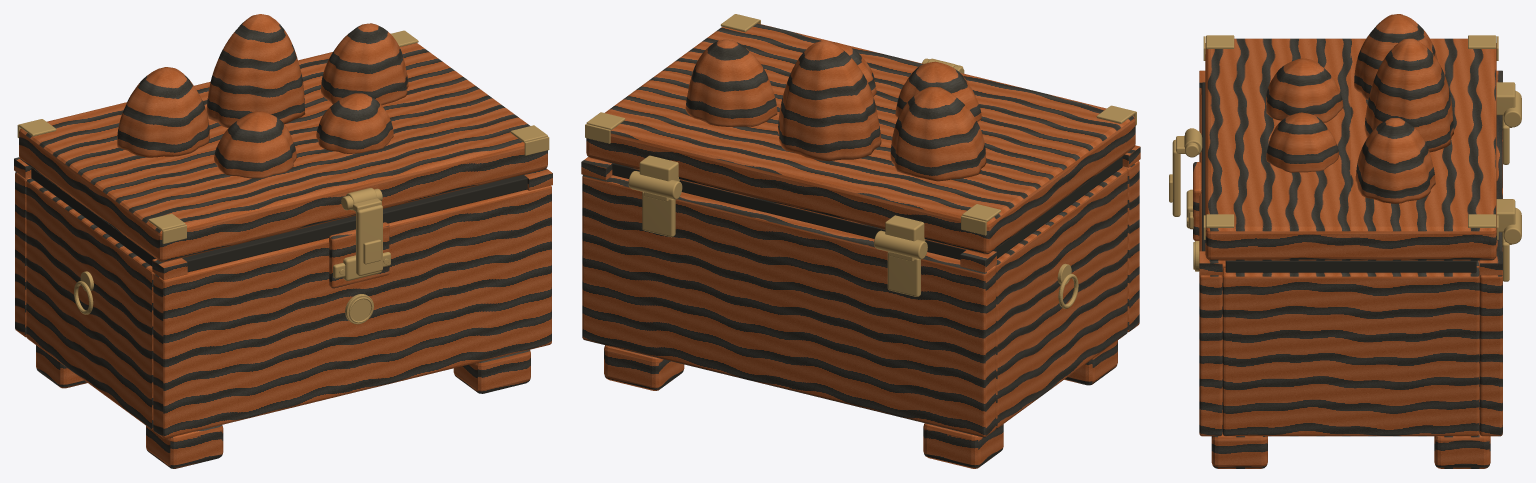
The model's file is australia.glb.
3 views of the same model, side by side, from view 1: azimuth 30°, elevation 25°; view 2: azimuth 150°, elevation 25°; view 3: azimuth 270°, elevation 25° (orthographic). The views are drawn at different scales.
Parts seen in each view (by area): view 1: Sandstone / front, Lid / polished slab, Sandstone / side, Dome / 2, Dome / 1, Dome / 3, Mineral seam / long, Dome / 4, Dome / 5, Sandstone foot, Sandstone foot.002, Sandstone / rear (+6 smaller); view 2: Sandstone / rear, Lid / polished slab, Sandstone / side, Dome / 2, Dome / 1, Dome / 3, Mineral seam / long.001, Sandstone foot.001, Sandstone foot.003, Sandstone / front, Dome / 4, Mineral seam / side (+8 smaller); view 3: Lid / polished slab, Sandstone / side.001, Dome / 2, Dome / 3, Sandstone / rear, Sandstone / front, Dome / 4, Dome / 5, Mineral seam / side.001, Dome / 1, Sandstone foot.002, Sandstone foot.003 (+13 smaller).
Part boxes in pixels (x1,y1,x2,y2): Sandstone / front: (153,185,551,438); Lid / polished slab: (19,43,547,262); Sandstone / side: (26,178,153,430); Dome / 2: (206,14,305,127); Dome / 1: (117,67,209,157); Dome / 3: (321,23,408,105); Mineral seam / long: (182,174,527,272); Dome / 4: (214,111,296,178); Dome / 5: (316,93,393,153); Sandstone foot: (146,425,223,468); Sandstone foot.002: (453,350,530,393); Sandstone / rear: (15,172,31,337); Sandstone / rear: (582,175,995,437); Lid / polished slab: (586,23,1135,254); Sandstone / side: (995,167,1127,428); Dome / 2: (778,40,881,161); Dome / 1: (890,86,986,181); Dome / 3: (685,39,777,126); Mineral seam / long.001: (612,163,965,259); Sandstone foot.001: (923,423,1003,468); Sandstone foot.003: (604,345,684,390); Sandstone / front: (1122,160,1139,332); Dome / 4: (895,61,981,121); Mineral seam / side: (993,156,1122,258); Lid / polished slab: (1205,38,1496,260); Sandstone / side.001: (1222,268,1479,436); Dome / 2: (1364,38,1453,152); Dome / 3: (1355,118,1435,203); Sandstone / rear: (1479,115,1502,436); Sandstone / front: (1199,94,1222,436); Dome / 4: (1266,58,1343,122); Dome / 5: (1266,112,1338,172); Mineral seam / side.001: (1225,260,1476,272); Dome / 1: (1354,14,1437,99); Sandstone foot.002: (1211,434,1267,468); Sandstone foot.003: (1434,434,1490,468).
Size of the model in its own units: 3.79 by 3.11 by 2.88.
3 materials, 1 textured.
